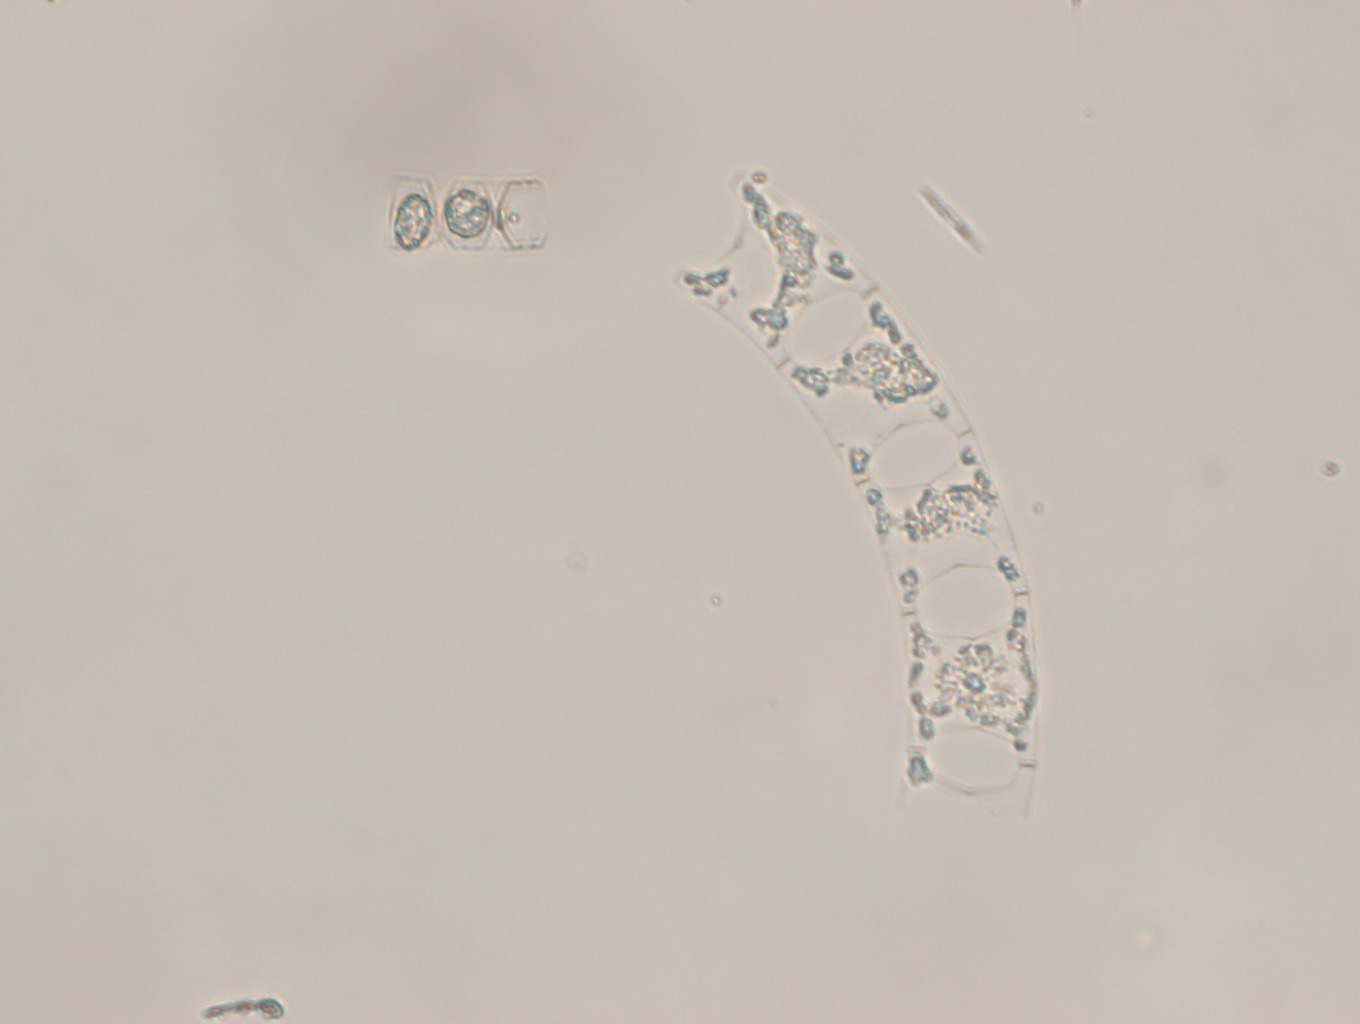eucampia: (667, 157, 1043, 830)
